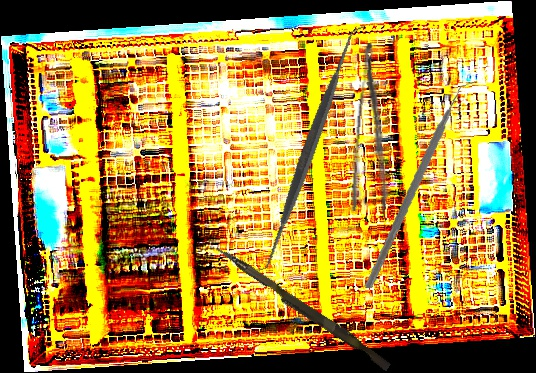Chopper: (341, 80, 505, 289)
Dressing Forceps: (348, 42, 401, 214)
Pusher: (211, 245, 395, 372)
Spatula Surgical: (190, 25, 431, 272)
